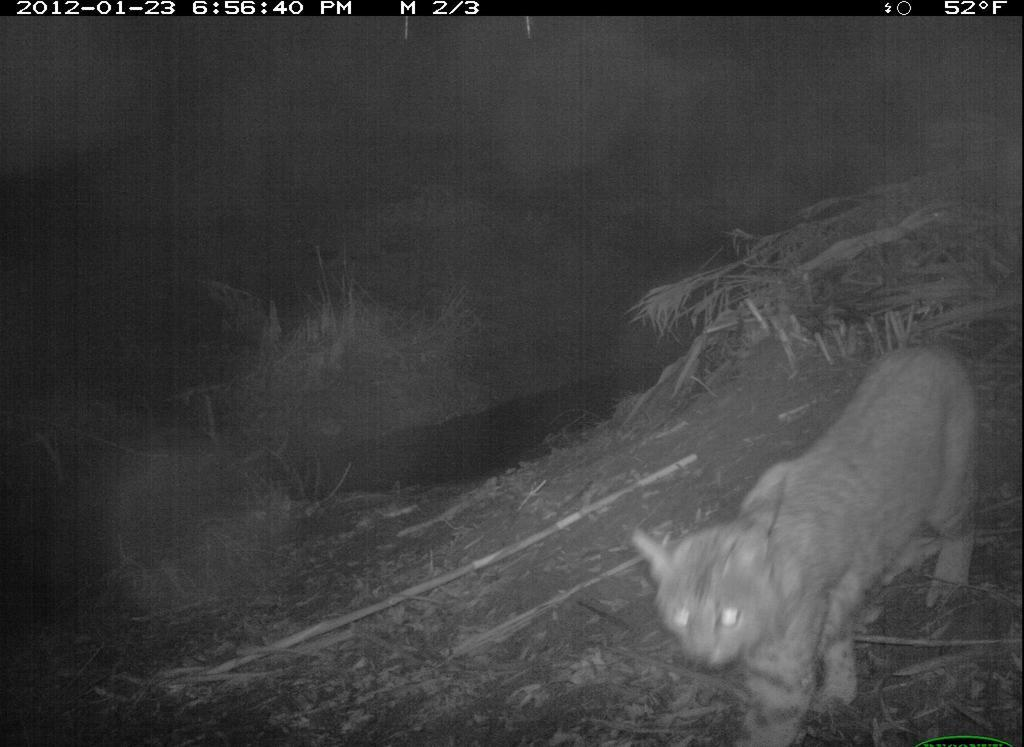bobcat: (630, 340, 987, 747)
